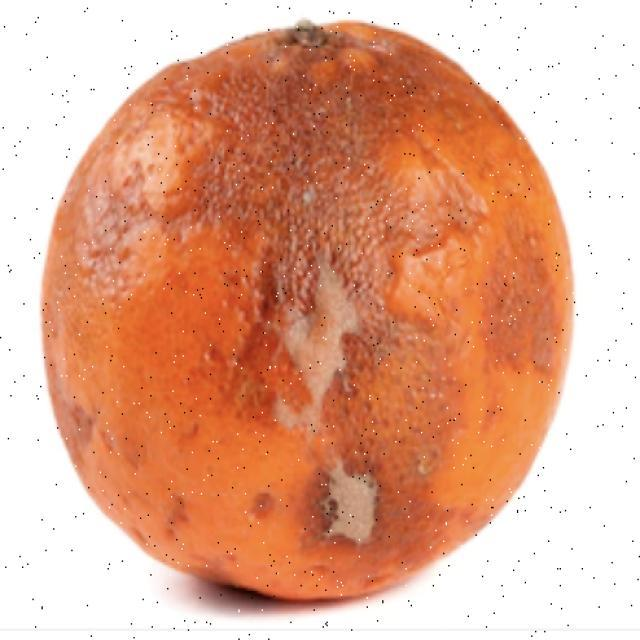sangat-busuk: (43, 24, 571, 598)
